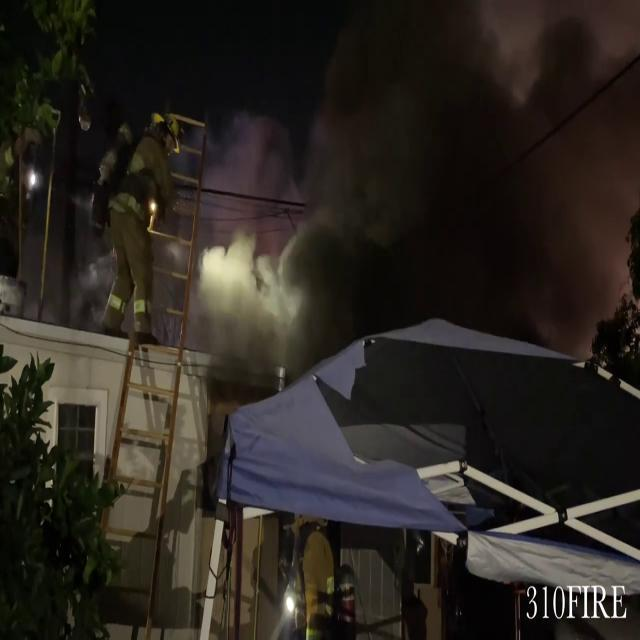Smoke: (188, 1, 640, 367)
